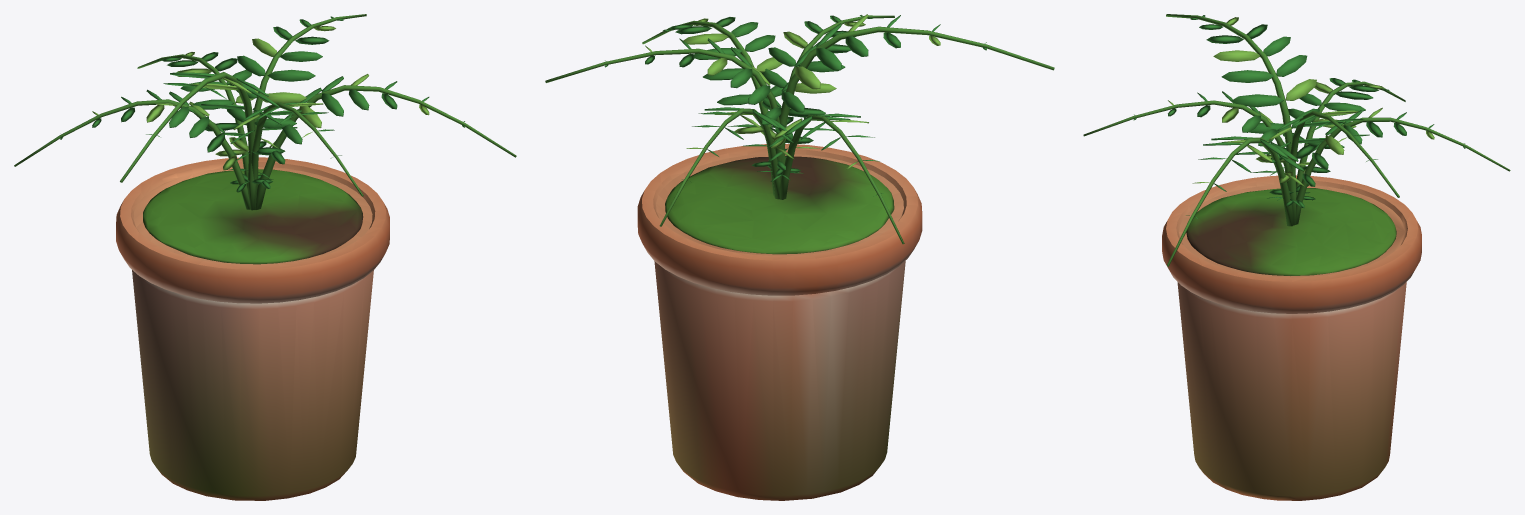
Rendered from canopy_pot_plant_b.glb.
The picture shows the model from 3 angles, left to right: view 1: azimuth 30°, elevation 25°; view 2: azimuth 150°, elevation 25°; view 3: azimuth 270°, elevation 25°; orthographic projection. The views are drawn at different scales.
Parts seen in each view (by area): view 1: canopy_pot_plant_b; view 2: canopy_pot_plant_b; view 3: canopy_pot_plant_b.
Boxes of the visible parts, x1,y1,x2,y2 form: canopy_pot_plant_b: (14,14,516,500); canopy_pot_plant_b: (545,14,1054,500); canopy_pot_plant_b: (1083,14,1510,500).
Bounding box in the file's own units: 5.4 × 5.4 × 5.31.
